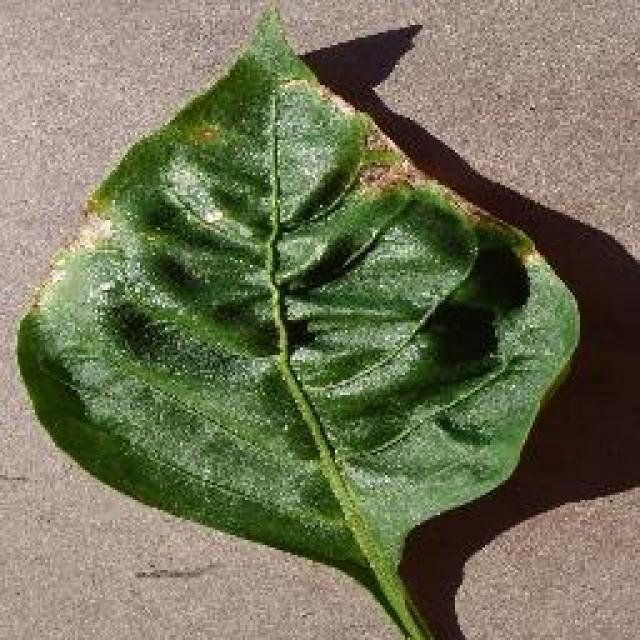Chilli_Bacterial_Spot: (13, 3, 585, 635), (158, 153, 232, 235), (185, 118, 223, 150), (195, 200, 227, 230)
